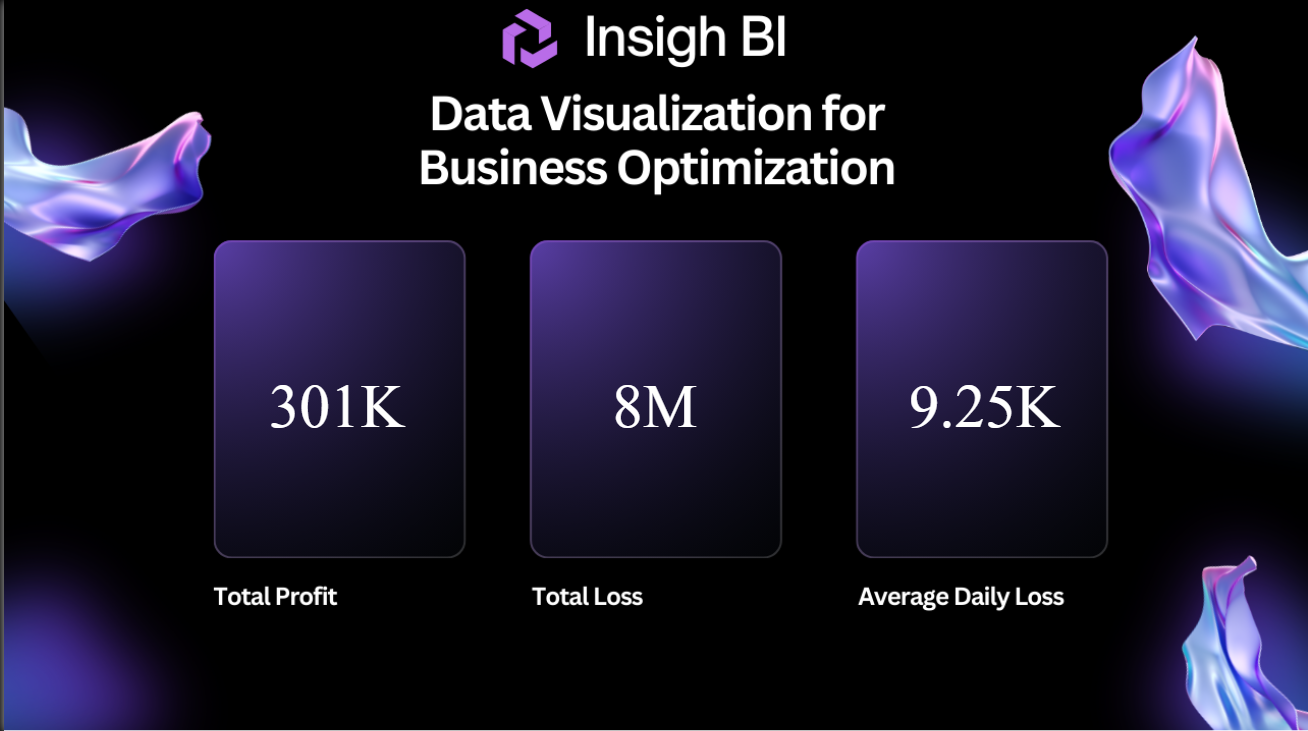

Layout of this report page (visuals, bound fields, positions):
{"tool":"powerbi","page":{"name":"Page 2","canvas":[1280,720],"ordinal":1},"visuals":[{"type":"card","fields":{"Values":["Measure Table.Total Profit"]},"box":[223.7,238.8,207.2,307.4],"z":0},{"type":"card","fields":{"Values":["Measure Table.Total Loss"]},"box":[514.6,238.8,249.7,307.4],"z":1000},{"type":"card","fields":{"Values":["Measure Table.Average Daily Loss"]},"box":[859,238.8,207.2,307.4],"z":2000}]}

Visuals, with their boxes in screenshot pixels (x1, y1, x2, y2), scaled from the page's 1280x720 canvas onto the 1308x731 screenshot:
card - Measure Table.Total Profit: <region>229, 242, 440, 555</region>
card - Measure Table.Total Loss: <region>526, 242, 781, 555</region>
card - Measure Table.Average Daily Loss: <region>878, 242, 1090, 555</region>
